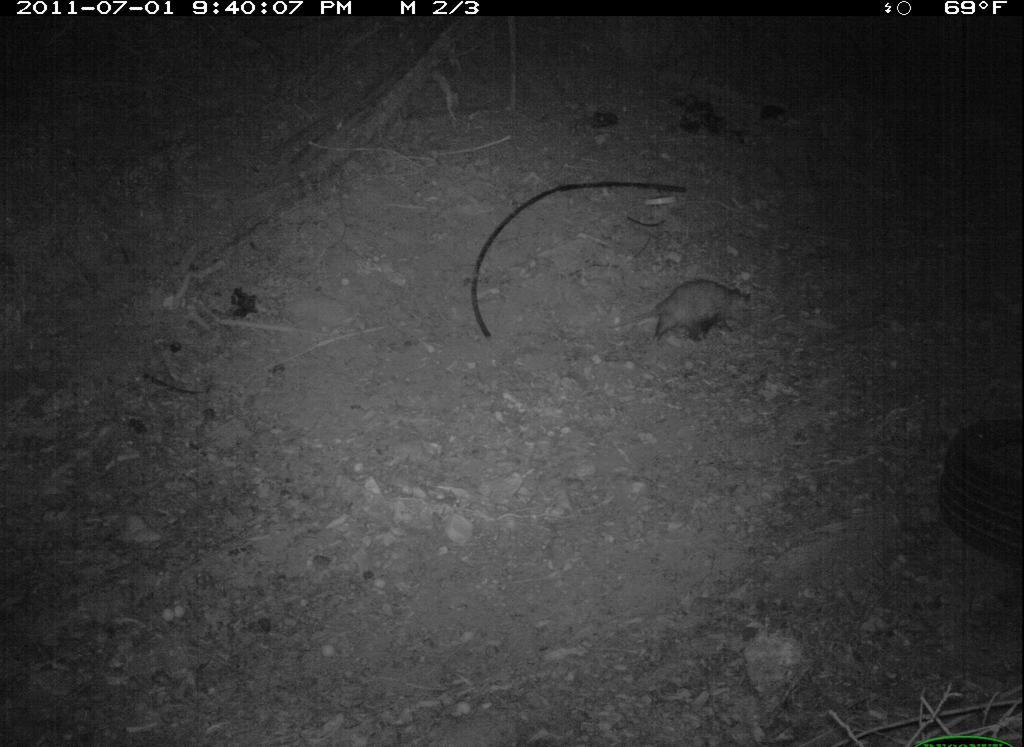opossum: (637, 267, 777, 359)
